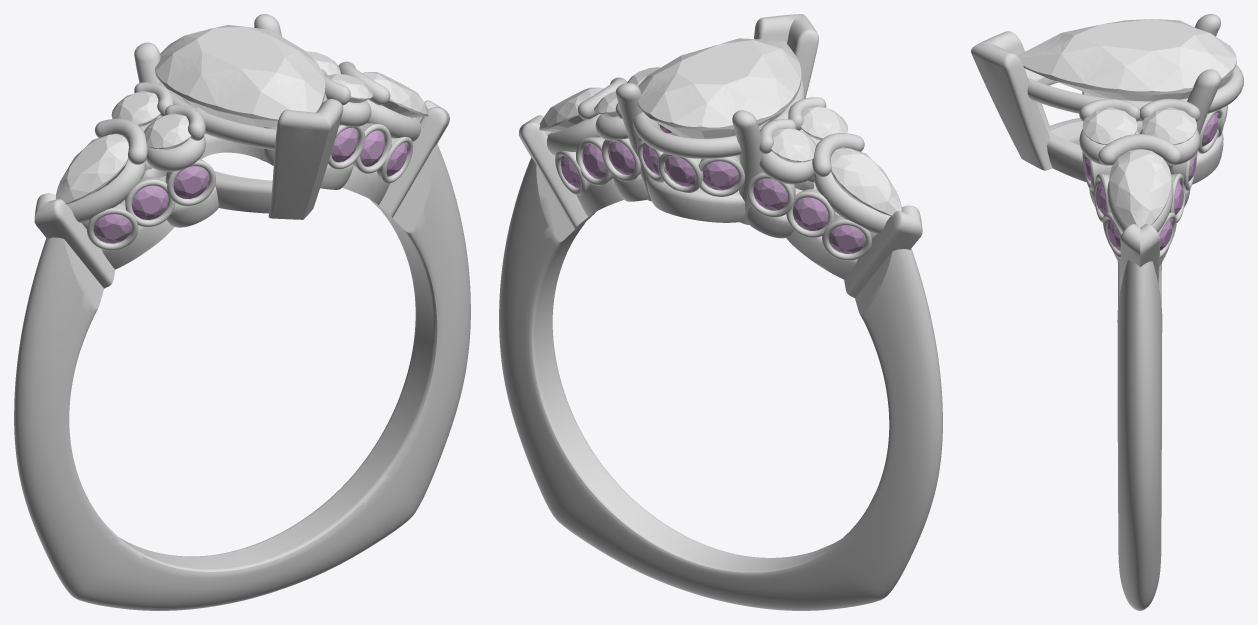
File: ChrisVringv5.glb
The picture shows the model from 3 angles, left to right: view 1: azimuth 30°, elevation 25°; view 2: azimuth 150°, elevation 25°; view 3: azimuth 270°, elevation 25°; orthographic projection. The views are drawn at different scales.
Visible parts, largest first — view 1: v5 full PT for 3d model, Chris dia for 3d model.001, Chris dia for 3d model.002, Chris dia for 3d model.005, Chris dia for 3d model, Chris dia for 3d model.006, v5 full sapphires for 3d model.007, v5 full sapphires for 3d model.013, v5 full sapphires for 3d model.014, v5 full sapphires for 3d model.011, Chris dia for 3d model.003, v5 full sapphires for 3d model.003; view 2: v5 full PT for 3d model, Chris dia for 3d model.001, Chris dia for 3d model.002, Chris dia for 3d model, Chris dia for 3d model.006, Chris dia for 3d model.005, v5 full sapphires for 3d model.004, v5 full sapphires for 3d model.005, v5 full sapphires for 3d model.009, v5 full sapphires for 3d model.006, v5 full sapphires for 3d model.010, v5 full sapphires for 3d model.001 (+1 smaller); view 3: v5 full PT for 3d model, Chris dia for 3d model.001, Chris dia for 3d model, Chris dia for 3d model.003, Chris dia for 3d model.004.
Boxes of the visible parts, left/top/right/bottom form: v5 full PT for 3d model: left=14, top=14, right=470, bottom=610; Chris dia for 3d model.001: left=155, top=25, right=325, bottom=127; Chris dia for 3d model.002: left=56, top=133, right=128, bottom=204; Chris dia for 3d model.005: left=144, top=113, right=191, bottom=149; Chris dia for 3d model: left=362, top=72, right=428, bottom=117; Chris dia for 3d model.006: left=111, top=91, right=160, bottom=126; v5 full sapphires for 3d model.007: left=132, top=185, right=168, bottom=219; v5 full sapphires for 3d model.013: left=173, top=166, right=208, bottom=198; v5 full sapphires for 3d model.014: left=93, top=214, right=131, bottom=243; v5 full sapphires for 3d model.011: left=331, top=128, right=358, bottom=162; Chris dia for 3d model.003: left=326, top=73, right=373, bottom=102; v5 full sapphires for 3d model.003: left=360, top=130, right=385, bottom=166; v5 full PT for 3d model: left=499, top=14, right=942, bottom=610; Chris dia for 3d model.001: left=637, top=38, right=801, bottom=138; Chris dia for 3d model.002: left=831, top=147, right=901, bottom=216; Chris dia for 3d model: left=539, top=87, right=603, bottom=132; Chris dia for 3d model.006: left=770, top=127, right=816, bottom=162; Chris dia for 3d model.005: left=800, top=105, right=847, bottom=140; v5 full sapphires for 3d model.004: left=793, top=197, right=828, bottom=230; v5 full sapphires for 3d model.005: left=753, top=178, right=787, bottom=210; v5 full sapphires for 3d model.009: left=702, top=161, right=738, bottom=190; v5 full sapphires for 3d model.006: left=828, top=225, right=865, bottom=253; v5 full sapphires for 3d model.010: left=665, top=156, right=695, bottom=186; v5 full sapphires for 3d model.001: left=608, top=141, right=634, bottom=174; v5 full PT for 3d model: left=971, top=14, right=1243, bottom=610; Chris dia for 3d model.001: left=1018, top=19, right=1236, bottom=101; Chris dia for 3d model: left=1109, top=149, right=1171, bottom=227; Chris dia for 3d model.003: left=1082, top=107, right=1137, bottom=144; Chris dia for 3d model.004: left=1142, top=107, right=1196, bottom=144.
Size of the model in its own units: 20.5 by 23.8 by 10.98.
